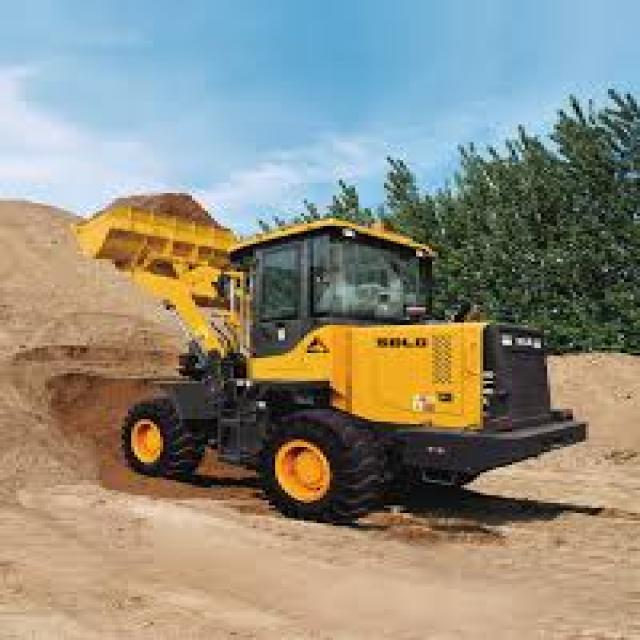buldozerpayloadergrader: (74, 202, 581, 532)
